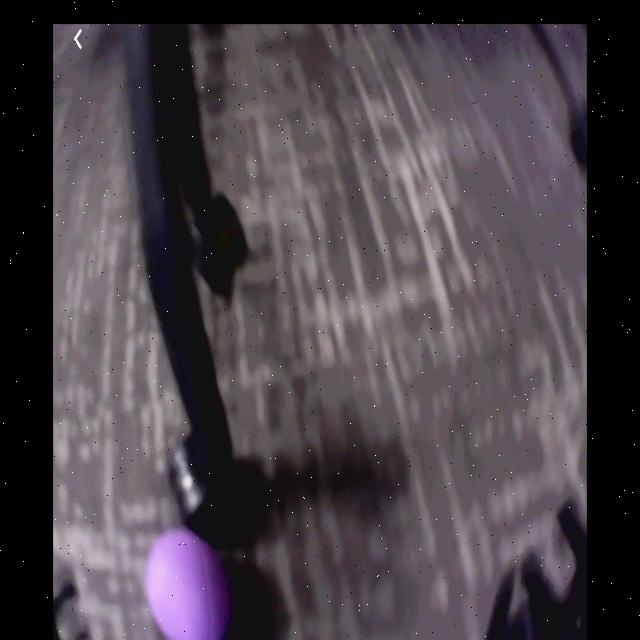ball: (146, 527, 231, 639)
